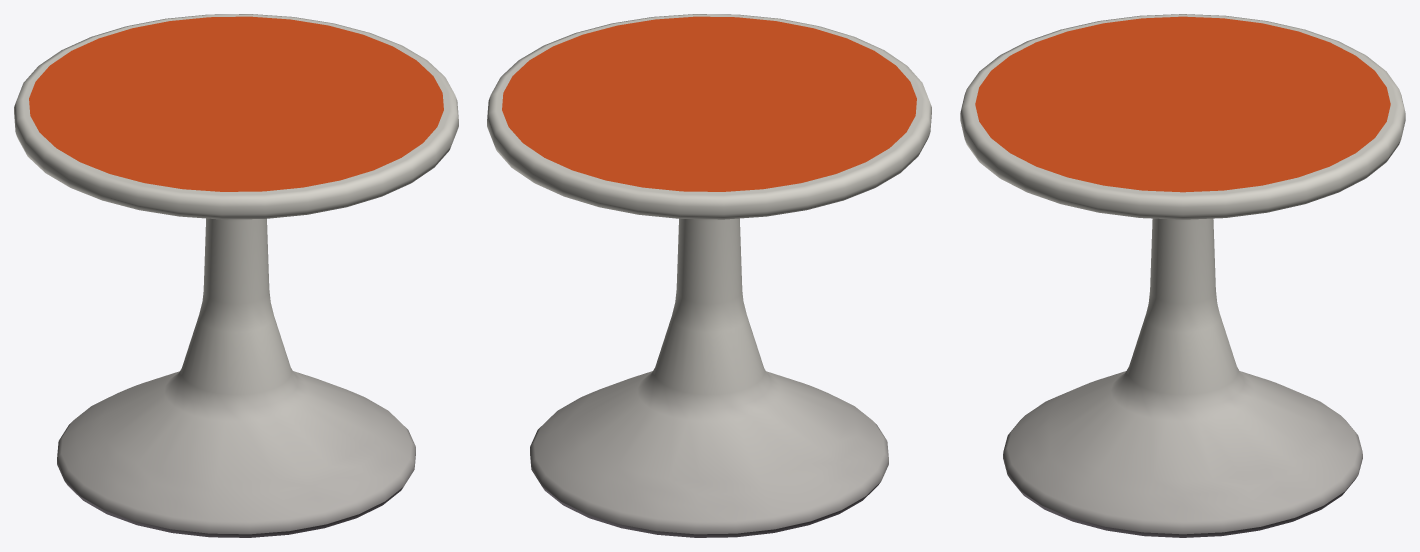
File: table_side_tulip__016.glb
The picture shows the model from 3 angles, left to right: view 1: azimuth 30°, elevation 25°; view 2: azimuth 150°, elevation 25°; view 3: azimuth 270°, elevation 25°; orthographic projection.
Parts seen in each view (by area): view 1: merged_toon_ffffff, prop_table_side_tulip; view 2: merged_toon_ffffff, prop_table_side_tulip; view 3: merged_toon_ffffff, prop_table_side_tulip.
Part boxes in pixels (x1,y1,x2,y2): merged_toon_ffffff: (14, 14, 458, 537); prop_table_side_tulip: (29, 16, 443, 191); merged_toon_ffffff: (487, 14, 931, 537); prop_table_side_tulip: (502, 16, 916, 191); merged_toon_ffffff: (960, 14, 1405, 537); prop_table_side_tulip: (975, 16, 1390, 192).
Size of the model in its own units: 0.6 by 0.536 by 0.6.
